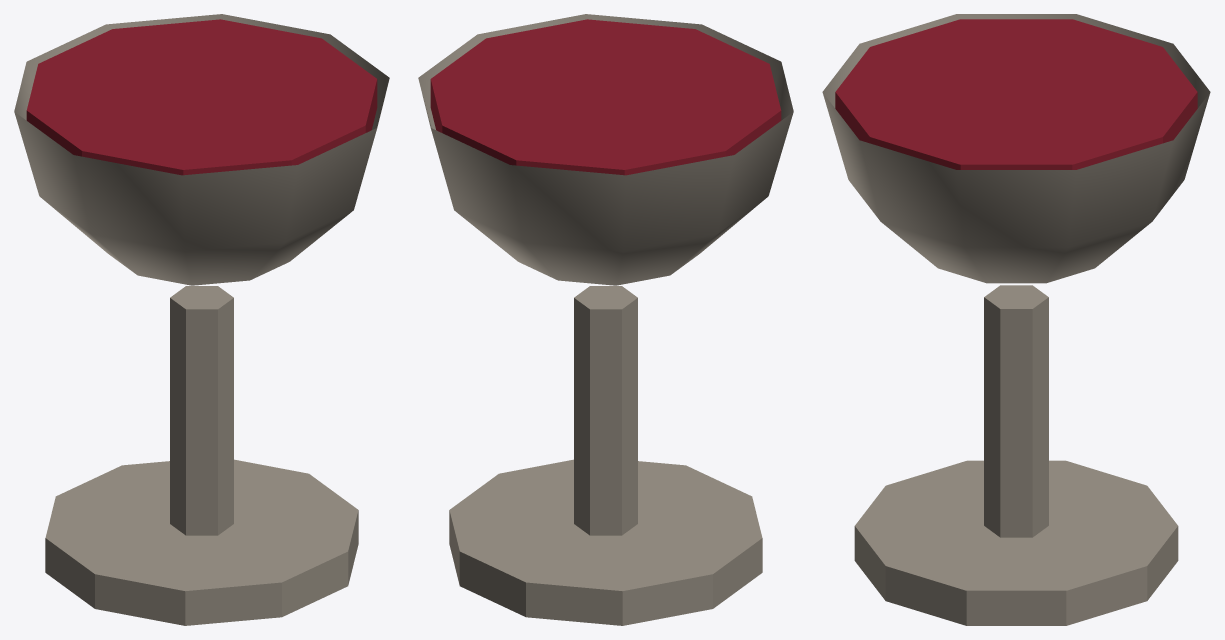
Rendered from PR_Drink_Sarap.fbx.
3 views of the same model, side by side, from view 1: azimuth 30°, elevation 25°; view 2: azimuth 150°, elevation 25°; view 3: azimuth 270°, elevation 25° (orthographic).
Visible parts, largest first — view 1: PR_Drink_Sarap; view 2: PR_Drink_Sarap; view 3: PR_Drink_Sarap.
Part boxes in pixels (<box>): PR_Drink_Sarap: <box>14,14,389,625</box>; PR_Drink_Sarap: <box>418,14,793,625</box>; PR_Drink_Sarap: <box>822,14,1210,625</box>.
Size of the model in its own units: 0.1141 by 0.16 by 0.12.
